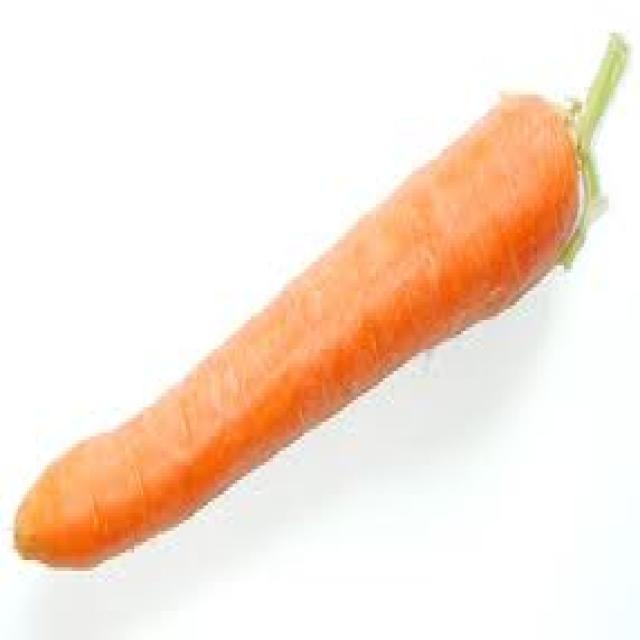carrot: (0, 22, 629, 571)
